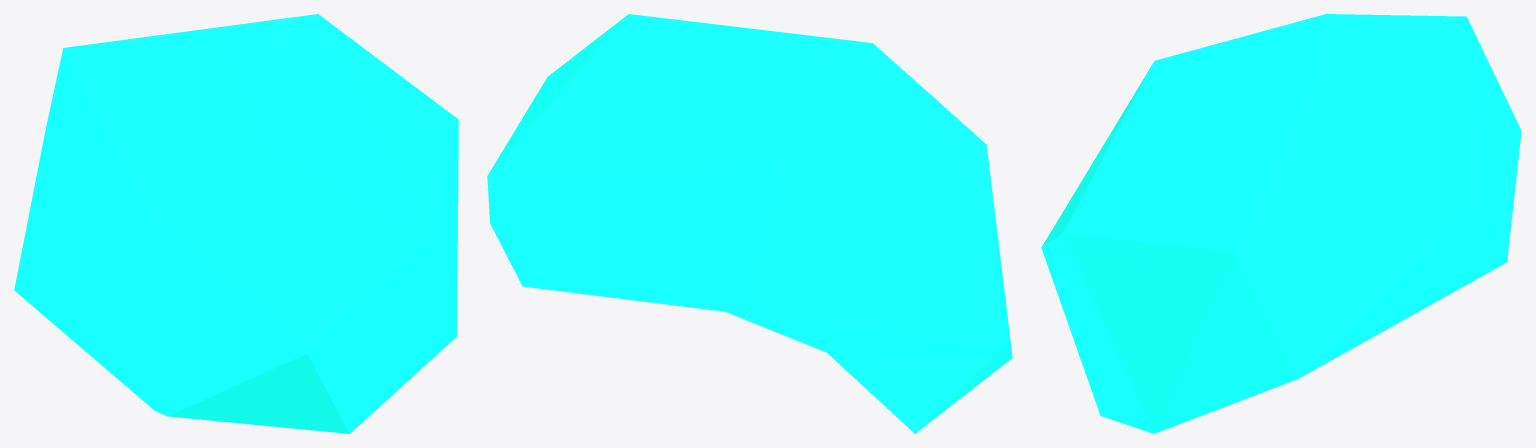
The model's file is rock.fbx.
The picture shows the model from 3 angles, left to right: view 1: azimuth 30°, elevation 25°; view 2: azimuth 150°, elevation 25°; view 3: azimuth 270°, elevation 25°; orthographic projection. The views are drawn at different scales.
Visible parts, largest first — view 1: Corallo 3.001; view 2: Corallo 3.001; view 3: Corallo 3.001.
Part boxes in pixels (bbox=[...]): Corallo 3.001: bbox=[14, 14, 458, 433]; Corallo 3.001: bbox=[487, 14, 1012, 433]; Corallo 3.001: bbox=[1041, 14, 1521, 433].
Bounding box in the file's own units: 150 × 114 × 130.
